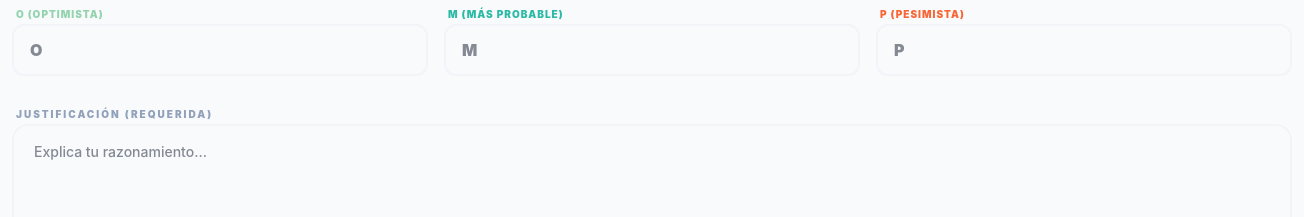
Test: ThreePointInput › validates O ≤ M ≤ P — O=10, M=5, P=14 shows error on optimistic
Type "10" into the number field with placeholder "O" at [220, 50], box [12,24,428,76]
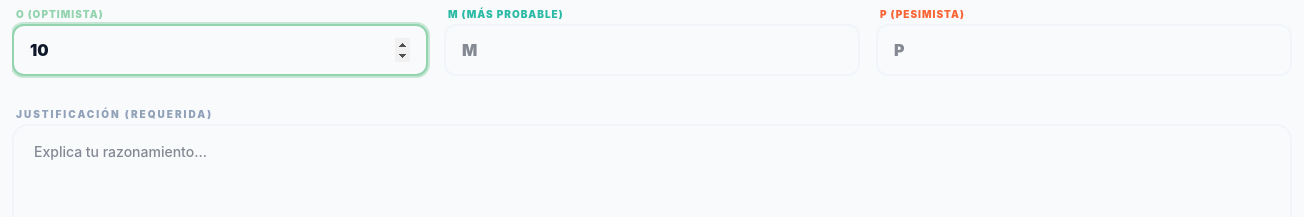
Type "5" into the number field with placeholder "M" at [652, 50], box [444,24,860,76]
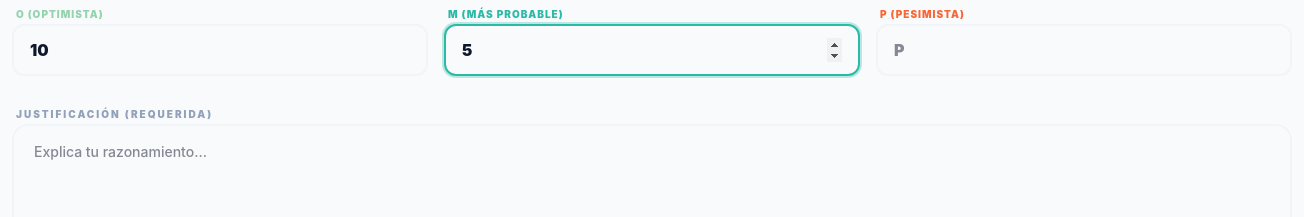
Type "14" into the number field with placeholder "P" at [1084, 50], box [876,24,1292,76]
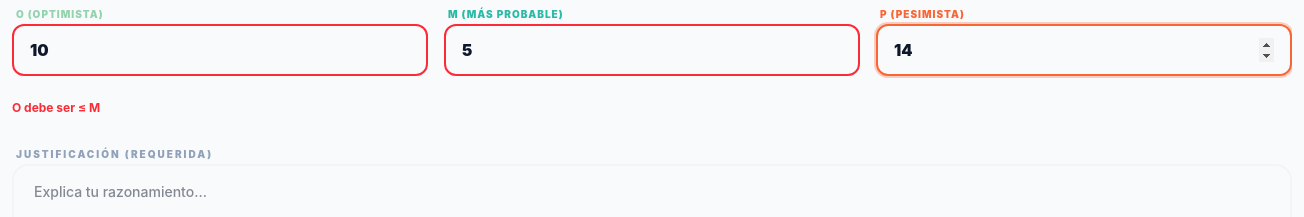
Expected: the message reads "O debe ser ≤ M", [12,100,100,115]
